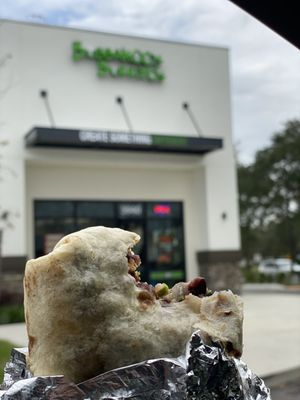curry: (7, 225, 247, 394)
